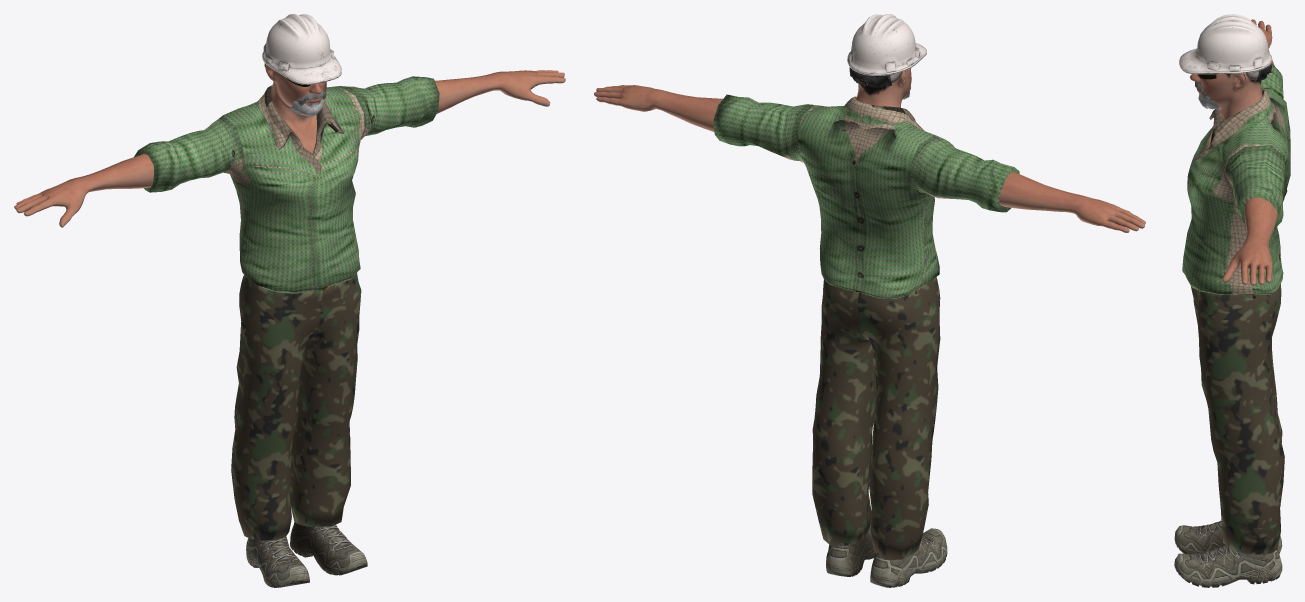
The model's file is rick.obj.
3 renders of one model, left to right at view 1: azimuth 30°, elevation 25°; view 2: azimuth 150°, elevation 25°; view 3: azimuth 270°, elevation 25°, orthographic.
Parts seen in each view (by area): view 1: Tops, Bottoms, Body, Shoes, Hats; view 2: Tops, Bottoms, Body, Hats, Shoes; view 3: Bottoms, Tops, Body, Shoes, Hats, Beards.
Part boxes in pixels (left/top/right/bottom): Tops: left=134, top=76, right=439, bottom=293; Bottoms: left=231, top=273, right=361, bottom=540; Body: left=14, top=64, right=565, bottom=227; Shoes: left=246, top=521, right=367, bottom=587; Hats: left=262, top=14, right=341, bottom=84; Tops: left=713, top=94, right=1019, bottom=298; Bottoms: left=812, top=277, right=940, bottom=559; Body: left=594, top=68, right=1145, bottom=232; Hats: left=847, top=14, right=926, bottom=87; Shoes: left=826, top=520, right=947, bottom=587; Bottoms: left=1191, top=284, right=1284, bottom=554; Tops: left=1182, top=63, right=1290, bottom=294; Body: left=1190, top=19, right=1278, bottom=285; Shoes: left=1174, top=520, right=1282, bottom=587; Hats: left=1179, top=14, right=1272, bottom=81; Beards: left=1198, top=92, right=1220, bottom=109.
Bounding box in the file's own units: 194 × 186 × 35.87.
Materials: 8 (8 with a texture image).
